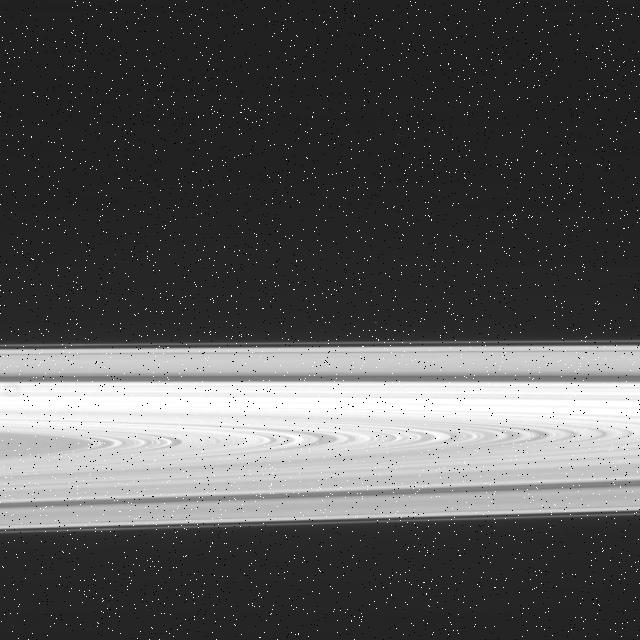Saturn: (0, 336, 640, 536)
